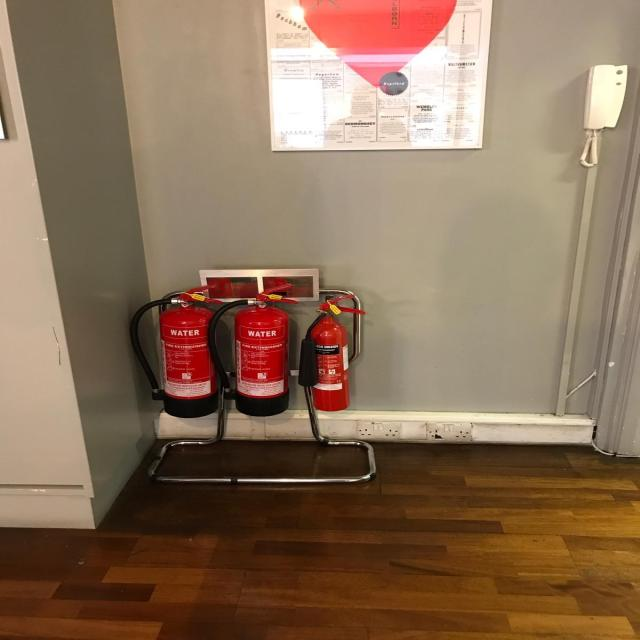fire_extinguisher: (121, 283, 226, 420), (205, 282, 303, 416), (296, 290, 369, 414)
